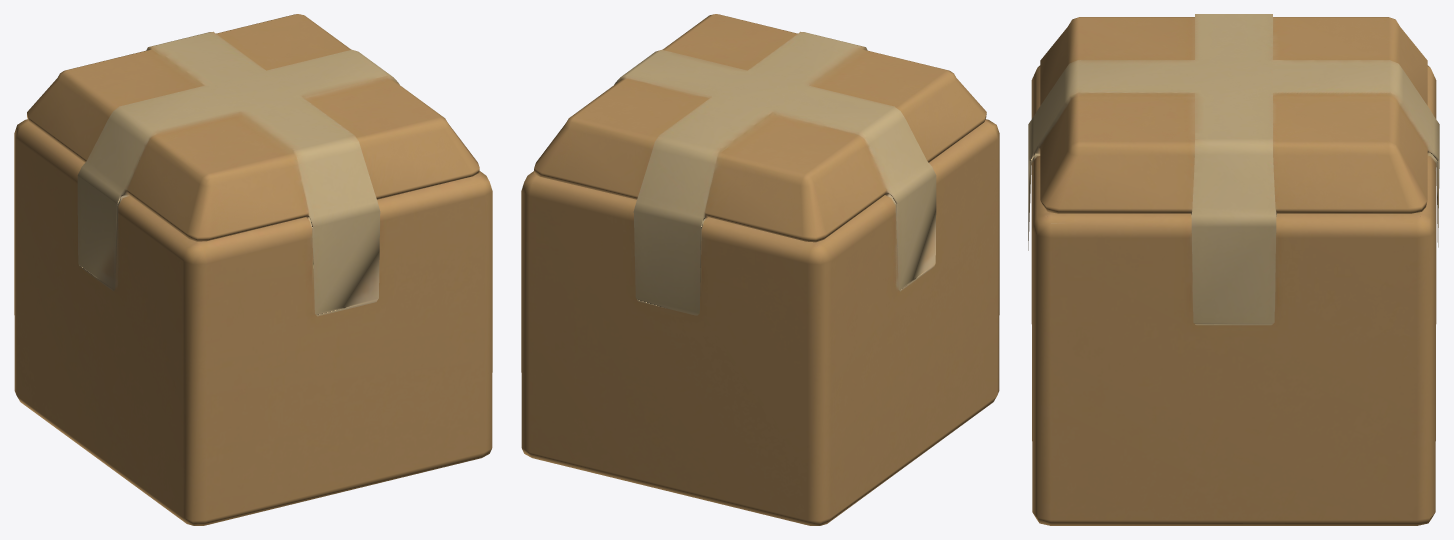
Rendered from cardbox.glb.
3 views of the same model, side by side, from view 1: azimuth 30°, elevation 25°; view 2: azimuth 150°, elevation 25°; view 3: azimuth 270°, elevation 25° (orthographic). The views are drawn at different scales.
Parts seen in each view (by area): view 1: tripo_node_14cd1b89-c121-4d64-8ff6-8d35b4aedf30; view 2: tripo_node_14cd1b89-c121-4d64-8ff6-8d35b4aedf30; view 3: tripo_node_14cd1b89-c121-4d64-8ff6-8d35b4aedf30.
Boxes of the visible parts, x1=… form: tripo_node_14cd1b89-c121-4d64-8ff6-8d35b4aedf30: x1=14, y1=14, x2=492, y2=525; tripo_node_14cd1b89-c121-4d64-8ff6-8d35b4aedf30: x1=521, y1=14, x2=999, y2=525; tripo_node_14cd1b89-c121-4d64-8ff6-8d35b4aedf30: x1=1028, y1=14, x2=1439, y2=525.
Bounding box in the file's own units: 0.9668 × 0.998 × 0.998.
1 material, 1 textured.
